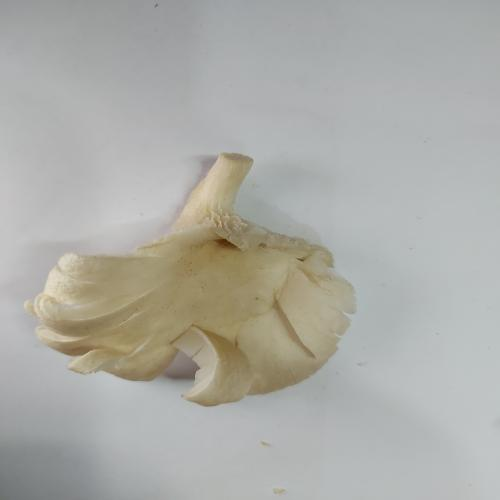Oyster Mushroom: (24, 151, 358, 407)
